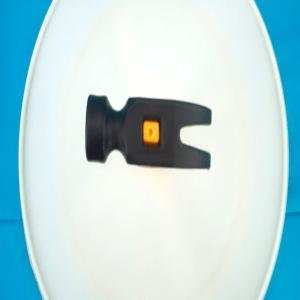martelo: (85, 93, 212, 172)
